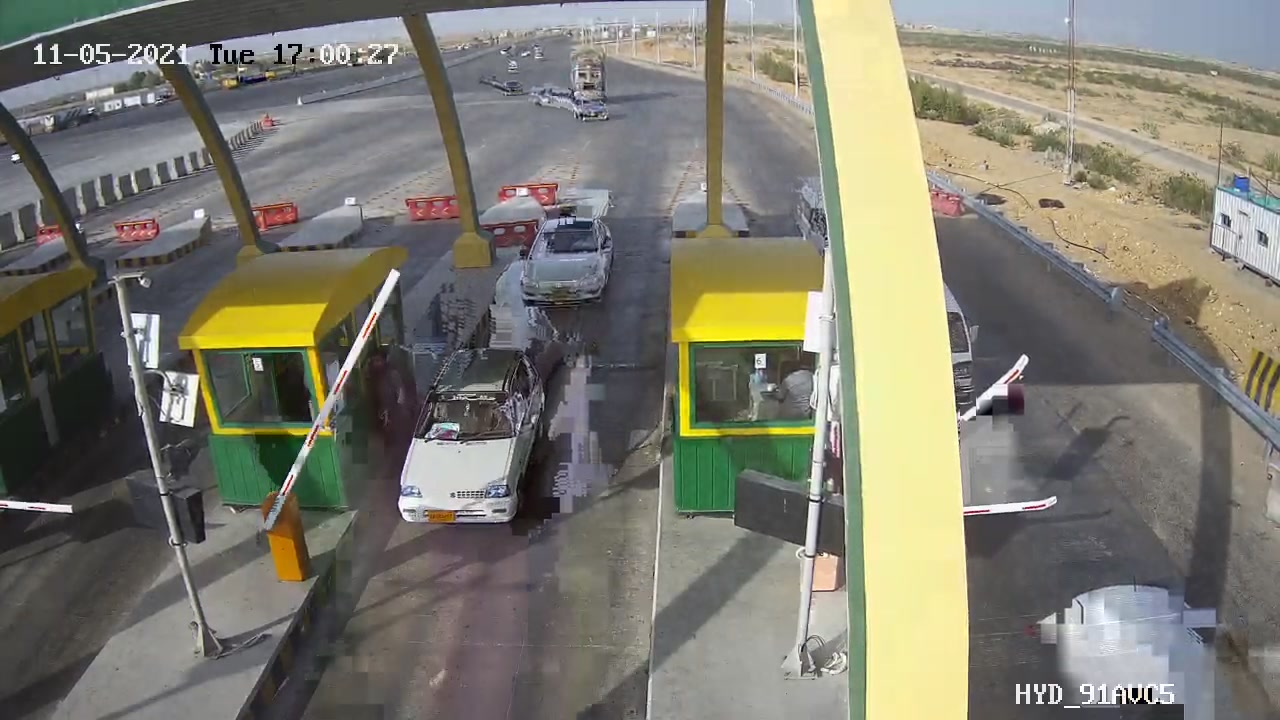F1: (383, 338, 563, 538)
